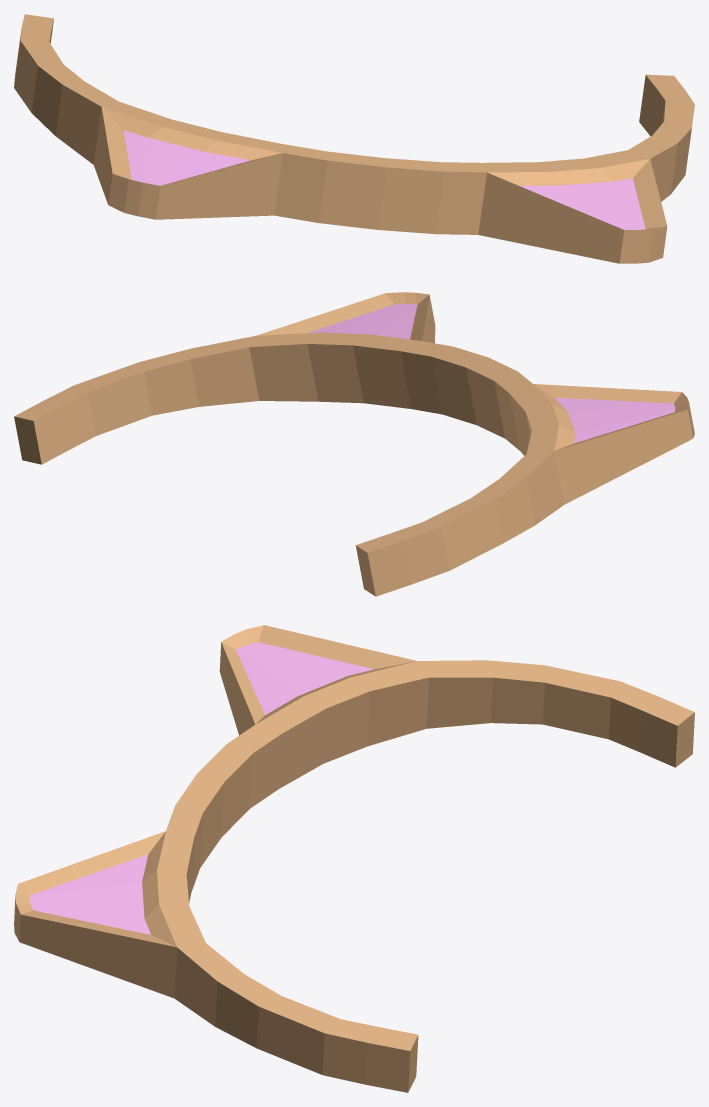
Rendered from Orelha de gato.fbx.
The picture shows the model from 3 angles, top to bottom: view 1: azimuth 30°, elevation 25°; view 2: azimuth 150°, elevation 25°; view 3: azimuth 270°, elevation 25°; orthographic projection. The views are drawn at different scales.
Visible parts, largest first — view 1: Tiara gatinho; view 2: Tiara gatinho; view 3: Tiara gatinho.
Part boxes in pixels (x1=…): Tiara gatinho: x1=14, y1=14, x2=694, y2=263; Tiara gatinho: x1=14, y1=292, x2=694, y2=596; Tiara gatinho: x1=14, y1=625, x2=694, y2=1092.
Bounding box in the file's own units: 160 × 36.91 × 145.
